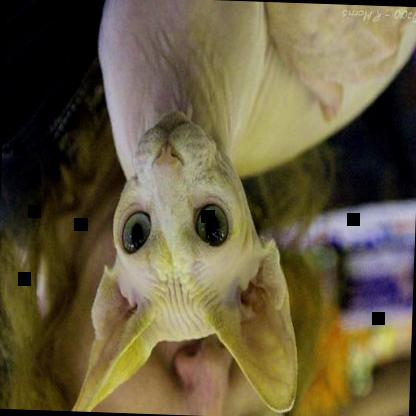cat: (71, 0, 415, 415)
